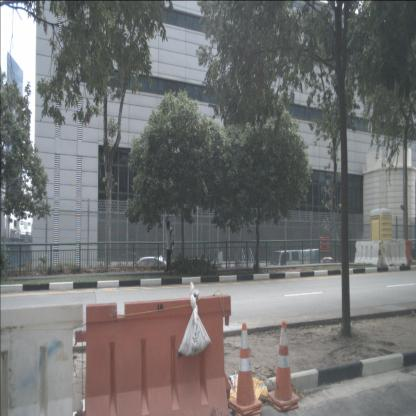barrier: (85, 280, 231, 416), (0, 302, 83, 415), (354, 239, 382, 266), (381, 239, 407, 268), (391, 238, 413, 266)
cone: (228, 320, 262, 416), (268, 320, 298, 412)
